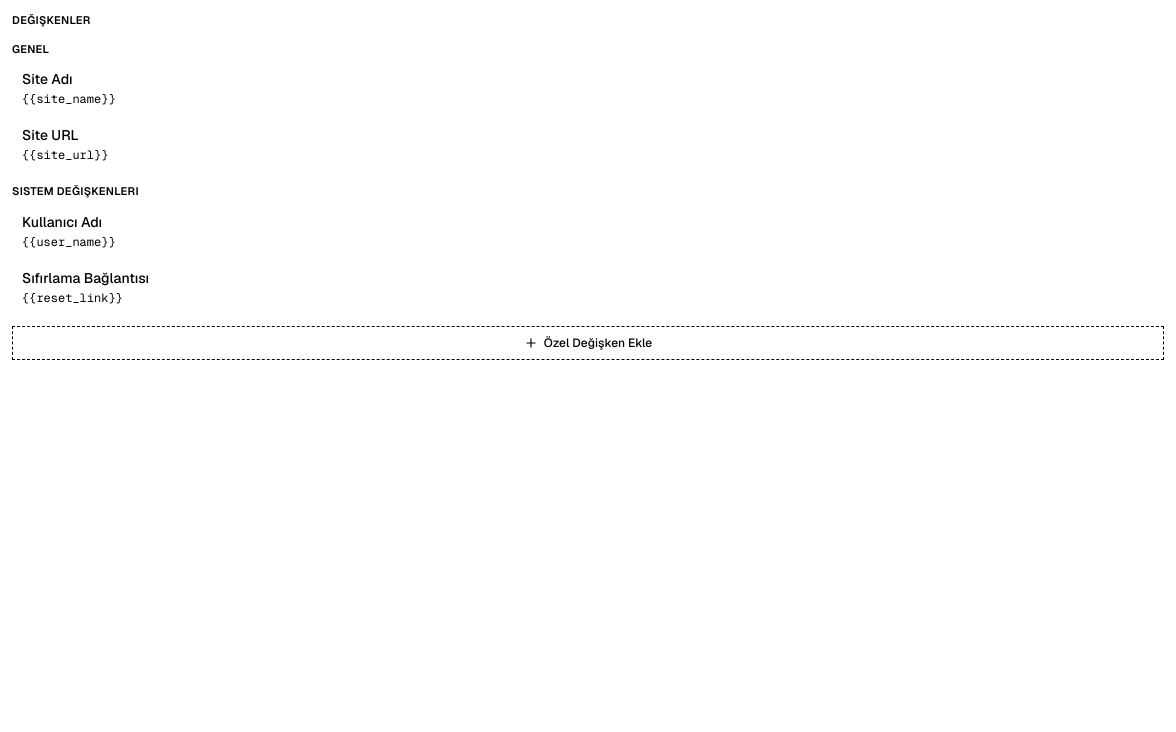
Test: VariablePanel › özel değişken ekleme formu: etiketten anahtar önerir, çakışan anahtarda Ekle disabled olur
Click the button "Özel Değişken Ekle" at (588, 342), box 12,326 -> 1164,360
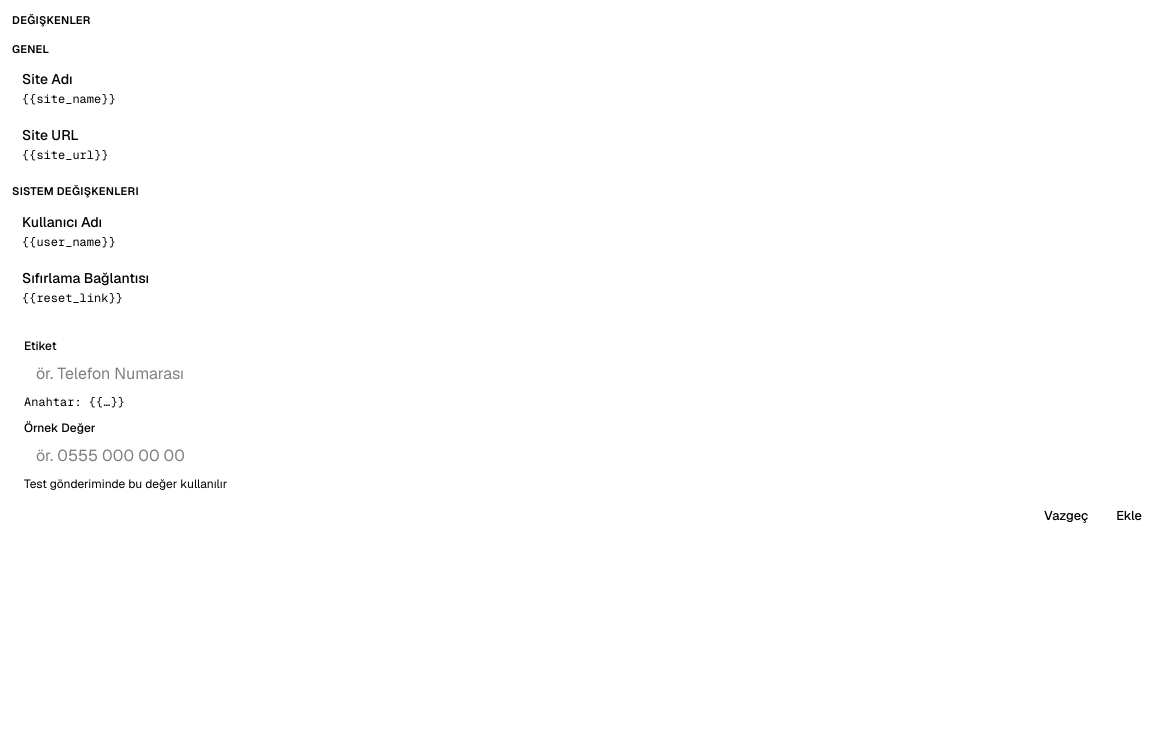
Type "Site Name" into the field labelled "Etiket" at (588, 374), box 24,358 -> 1152,390
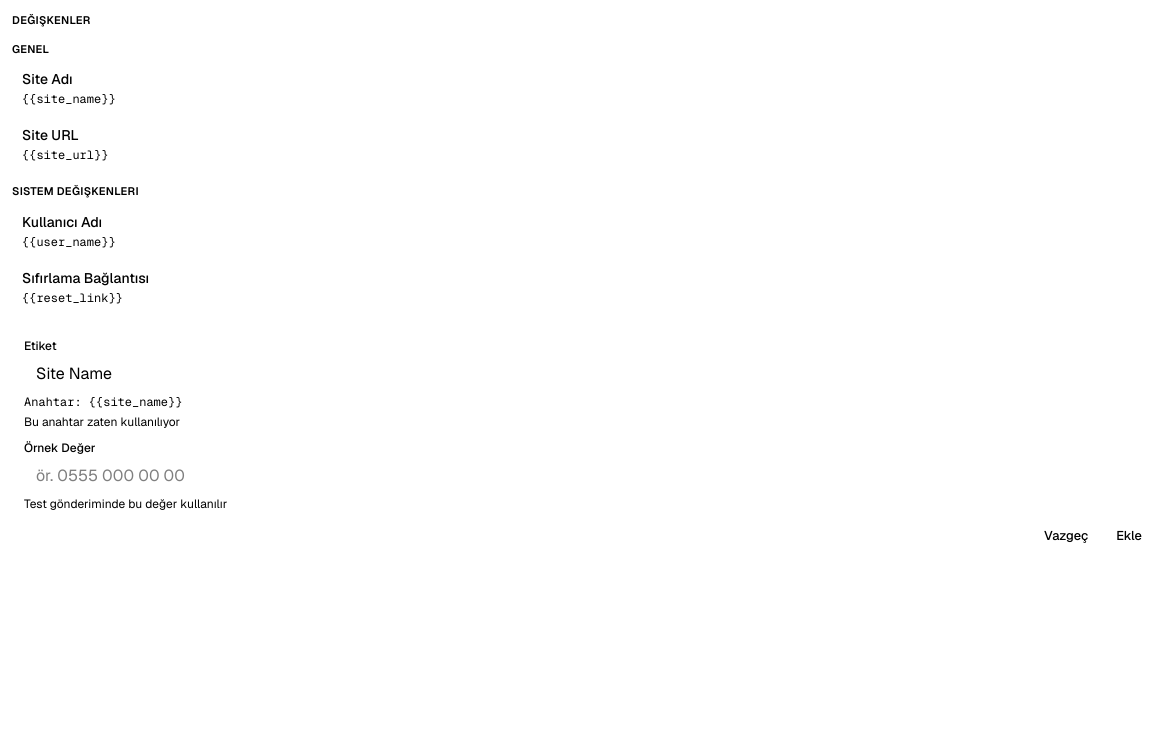
Expected: the button "Ekle" is disabled, 1106,522 -> 1152,550
Now the text "Bu anahtar zaten kullanılıyor" is shown, box 24,414 -> 180,430
